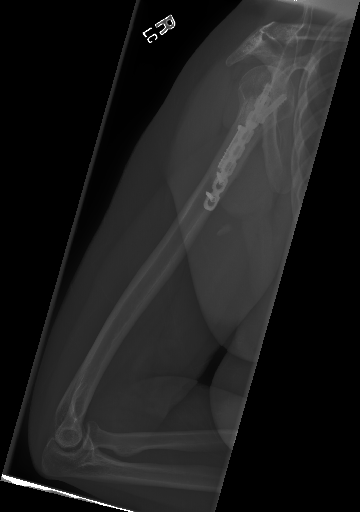implant: (202, 78, 289, 214)
